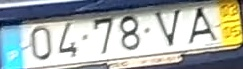0: (27, 23, 54, 64)
4: (55, 19, 79, 59)
7: (91, 14, 116, 58)
8: (116, 12, 143, 52)
A: (185, 6, 219, 47)
V: (151, 7, 182, 49)
